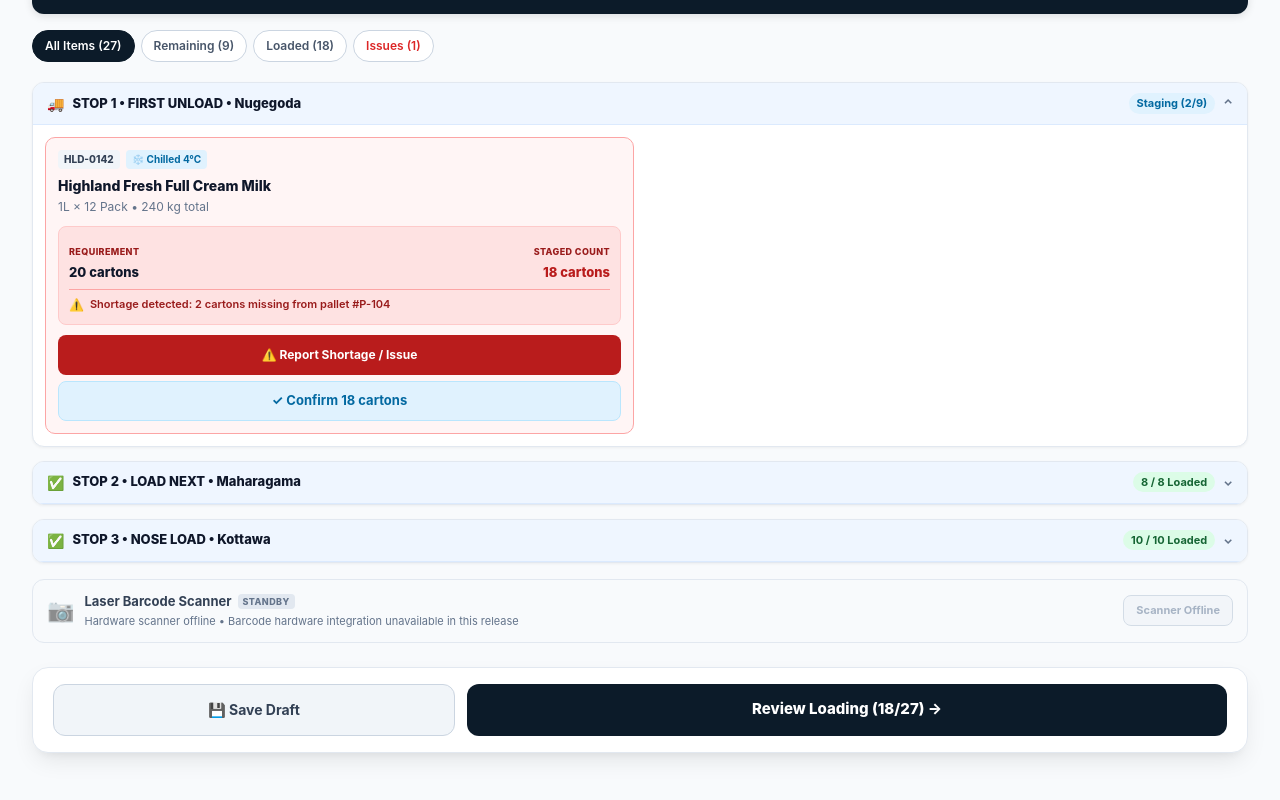
Test: Loader Feature 2: Loading Sequence & Loading Checklist (LS-04 & LS-05) › 6. confirms item loading when clicking confirm button
(page scrolled)
Click the button "✓ Confirm 18 cartons" at (340, 400), box [58,380,621,420]
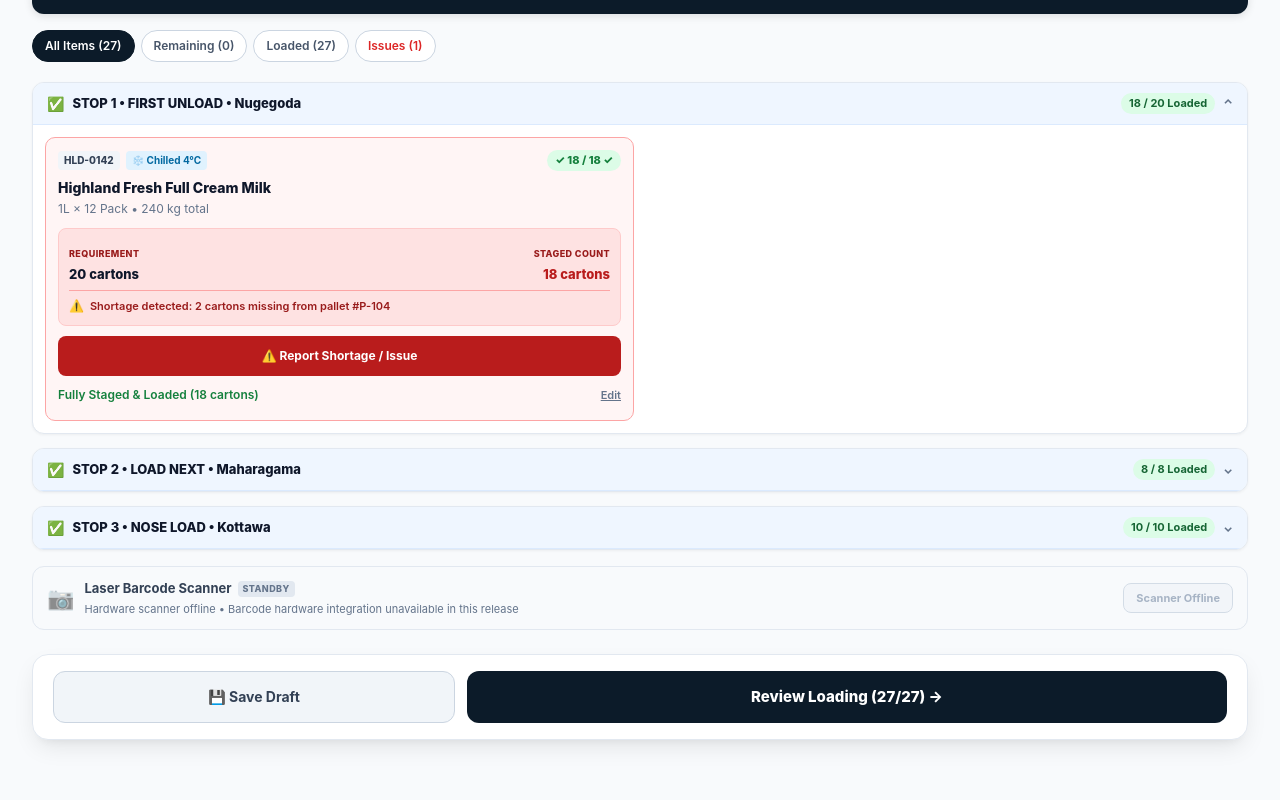
Expected: the text "Fully Staged & Loaded (18 cartons)" is shown, [58,386,259,404]
